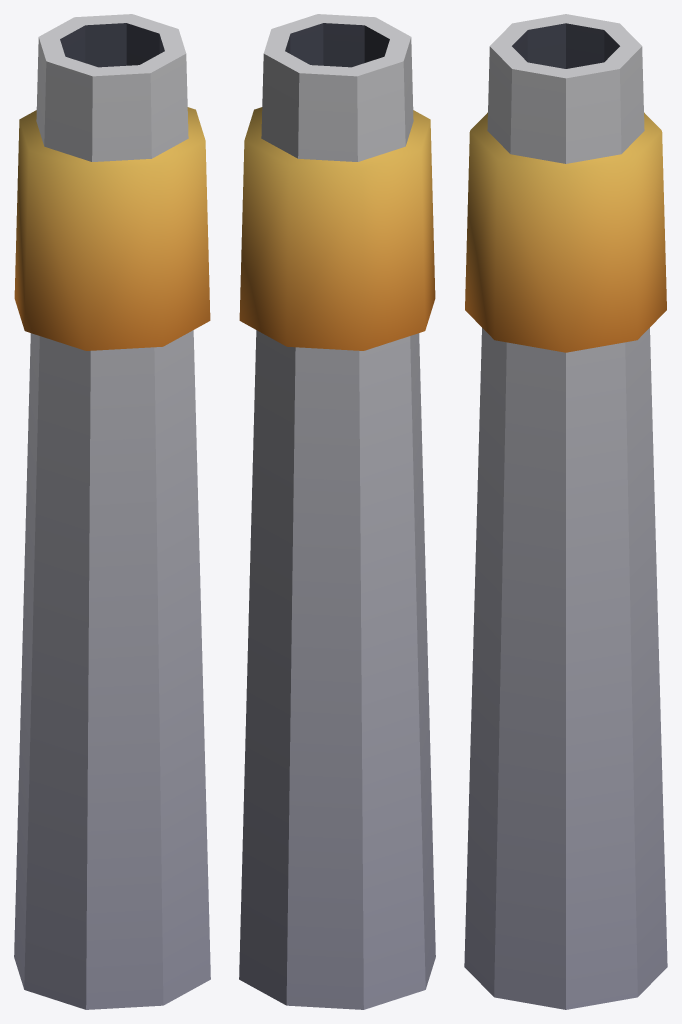
File: industrial-chimney-basic.glb
The picture shows the model from 3 angles, left to right: view 1: azimuth 30°, elevation 25°; view 2: azimuth 150°, elevation 25°; view 3: azimuth 270°, elevation 25°; orthographic projection.
Parts seen in each view (by area): view 1: chimney-basic; view 2: chimney-basic; view 3: chimney-basic.
Boxes of the visible parts, <box> form: chimney-basic: <box>14,14,210,1009</box>; chimney-basic: <box>239,14,435,1009</box>; chimney-basic: <box>464,14,667,1009</box>.
Bounding box in the file's own units: 0.2 × 1 × 0.2.
